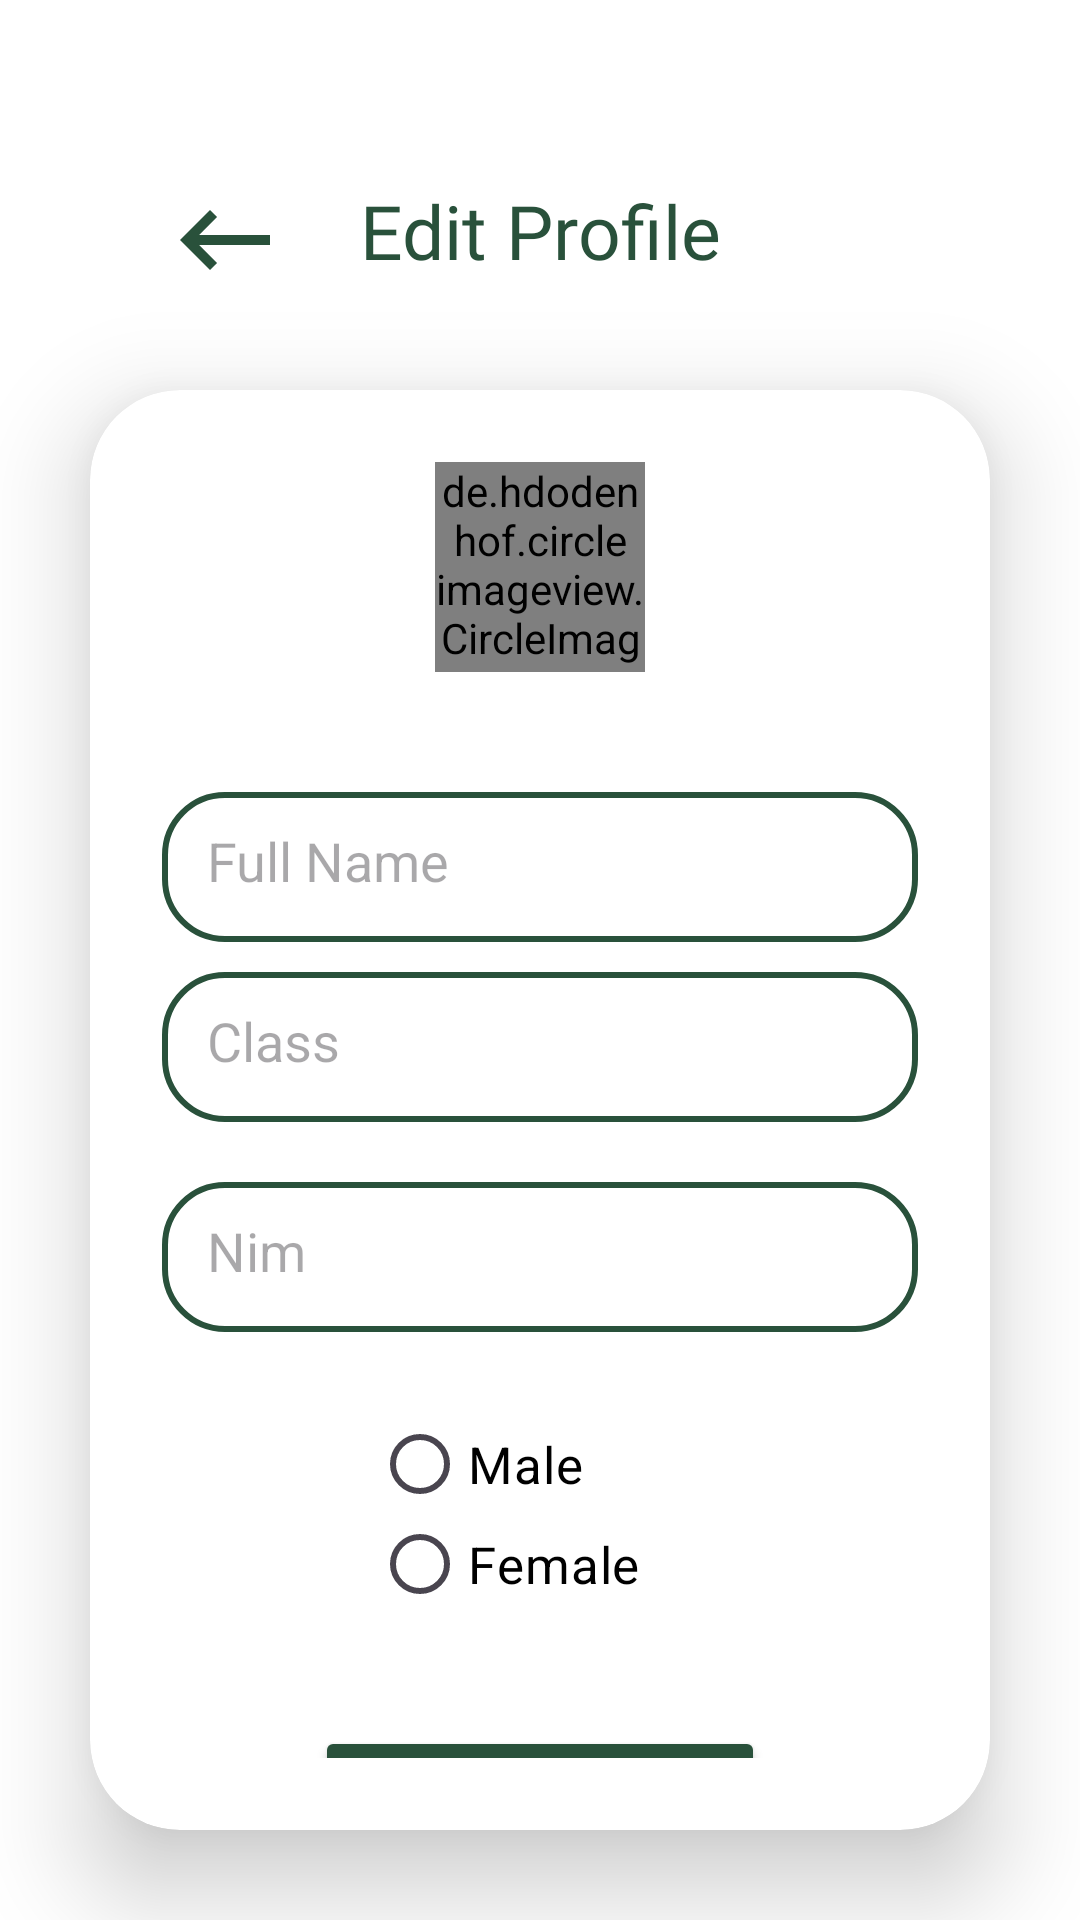

Icons on this 1080×1920 Android screen, each with its box as (x1, y1, x2, y2):
keyboard backspace: (180, 210, 270, 270)
